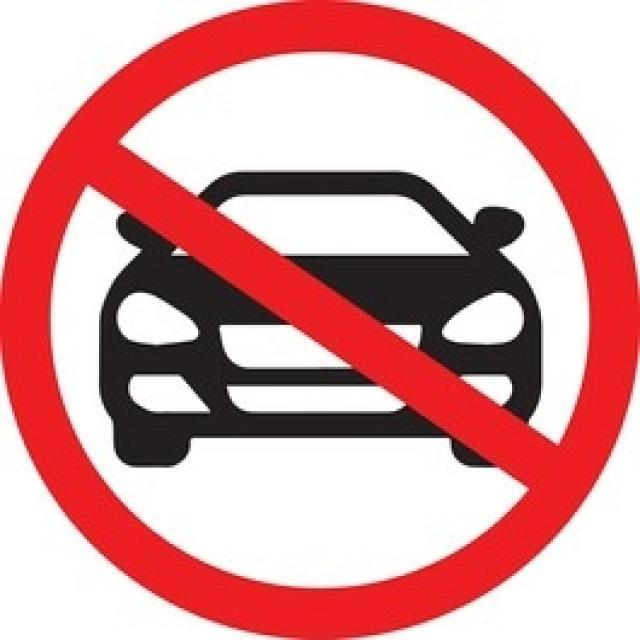all motor vehicle prohibited: (12, 16, 632, 624)
